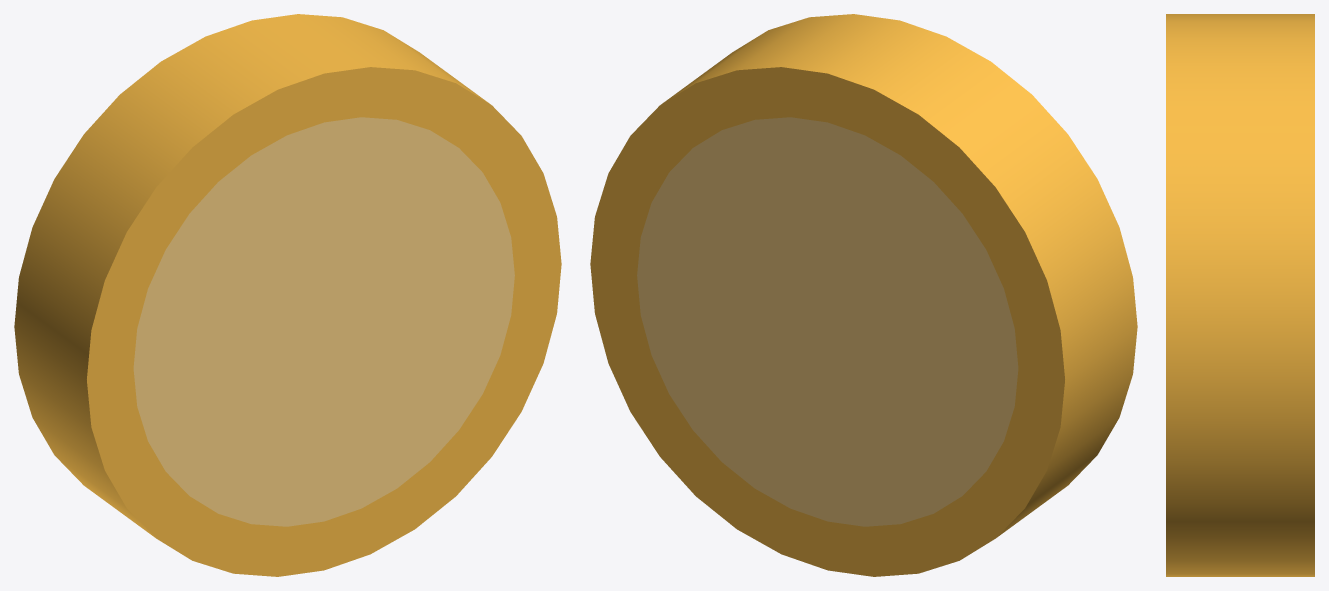
File: Coin C.fbx
3 renders of one model, left to right at view 1: azimuth 30°, elevation 25°; view 2: azimuth 150°, elevation 25°; view 3: azimuth 270°, elevation 25°, orthographic. The views are drawn at different scales.
Parts seen in each view (by area): view 1: Coin C; view 2: Coin C; view 3: Coin C.
Part boxes in pixels (x1,y1,x2,y2): Coin C: [14, 14, 561, 576]; Coin C: [590, 14, 1137, 576]; Coin C: [1166, 14, 1314, 576].
Size of the model in its own units: 0.6728 by 0.6728 by 0.1778.
